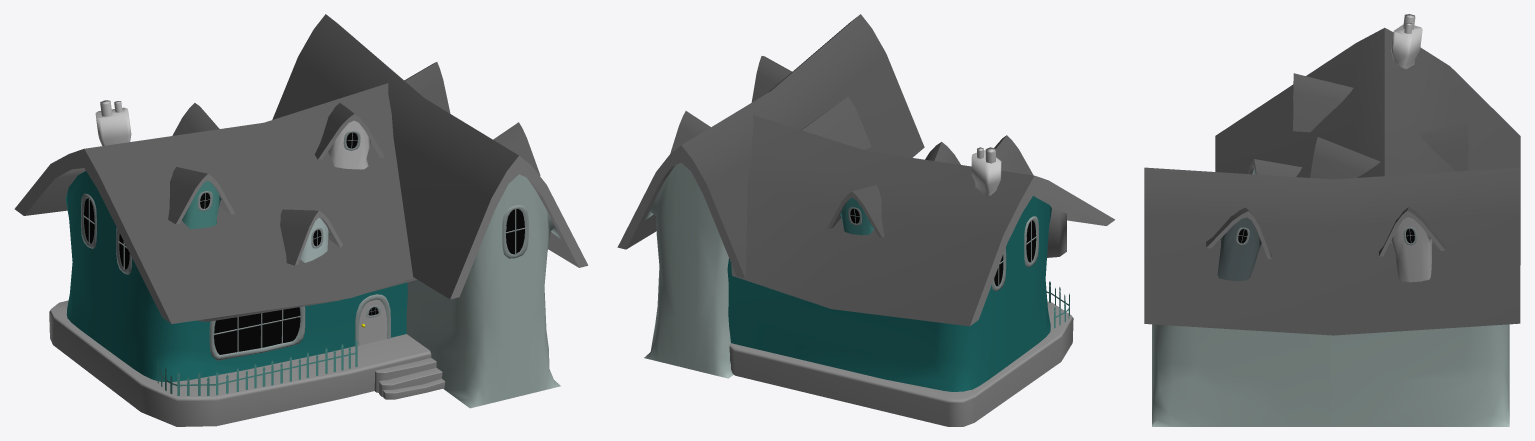
Rendered from House1.fbx.
3 renders of one model, left to right at view 1: azimuth 30°, elevation 25°; view 2: azimuth 150°, elevation 25°; view 3: azimuth 270°, elevation 25°, orthographic. The views are drawn at different scales.
Visible parts, largest first — view 1: polySurface165, polySurface167, polySurface169, polySurface118, polySurface163, polySurface122, polySurface154, polySurface168, polySurface71, polySurface102, polySurface166; view 2: polySurface165, polySurface169, polySurface167, polySurface154, polySurface163, polySurface110, polySurface118; view 3: polySurface165, polySurface167, polySurface79, polySurface77, polySurface154.
Boxes of the visible parts, x1=… form: polySurface165: x1=14, y1=14, x2=588, y2=426; polySurface167: x1=406, y1=174, x2=560, y2=408; polySurface169: x1=65, y1=171, x2=407, y2=382; polySurface118: x1=84, y1=132, x2=524, y2=354; polySurface163: x1=81, y1=131, x2=528, y2=360; polySurface122: x1=157, y1=340, x2=357, y2=395; polySurface154: x1=95, y1=100, x2=131, y2=145; polySurface168: x1=328, y1=120, x2=371, y2=169; polySurface71: x1=182, y1=180, x2=221, y2=228; polySurface102: x1=359, y1=299, x2=387, y2=345; polySurface166: x1=300, y1=218, x2=330, y2=262; polySurface165: x1=617, y1=14, x2=1114, y2=426; polySurface169: x1=727, y1=196, x2=1051, y2=426; polySurface167: x1=644, y1=162, x2=733, y2=378; polySurface154: x1=971, y1=147, x2=1001, y2=196; polySurface163: x1=848, y1=207, x2=1038, y2=291; polySurface110: x1=840, y1=198, x2=873, y2=235; polySurface118: x1=850, y1=209, x2=1036, y2=286; polySurface165: x1=1144, y1=27, x2=1520, y2=335; polySurface167: x1=1152, y1=324, x2=1509, y2=426; polySurface79: x1=1390, y1=217, x2=1432, y2=282; polySurface77: x1=1217, y1=217, x2=1261, y2=281; polySurface154: x1=1391, y1=14, x2=1422, y2=68.
Size of the model in its own units: 29.83 by 19.92 by 26.27.
